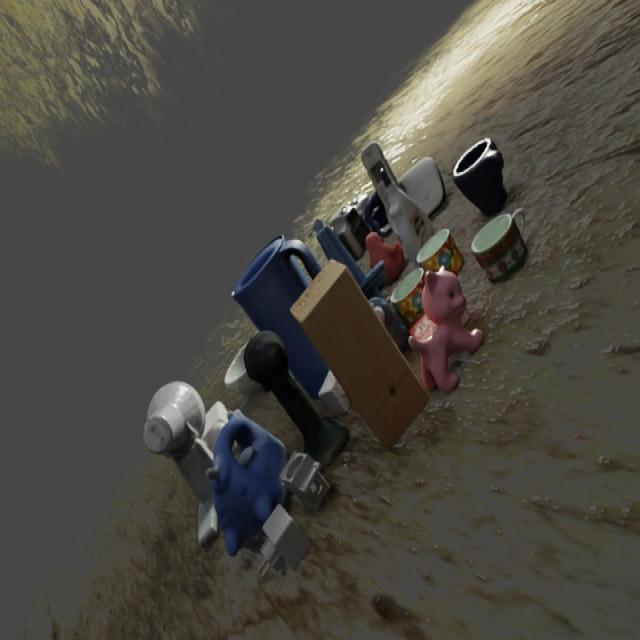Other Objects: (290, 260, 428, 448), (232, 236, 328, 399), (244, 331, 349, 469), (210, 411, 286, 555), (409, 268, 483, 392), (362, 143, 436, 260), (452, 139, 507, 216), (471, 208, 527, 281), (259, 505, 309, 575), (280, 452, 330, 508), (398, 157, 445, 215), (416, 229, 463, 275), (389, 267, 425, 325), (365, 232, 403, 283)
